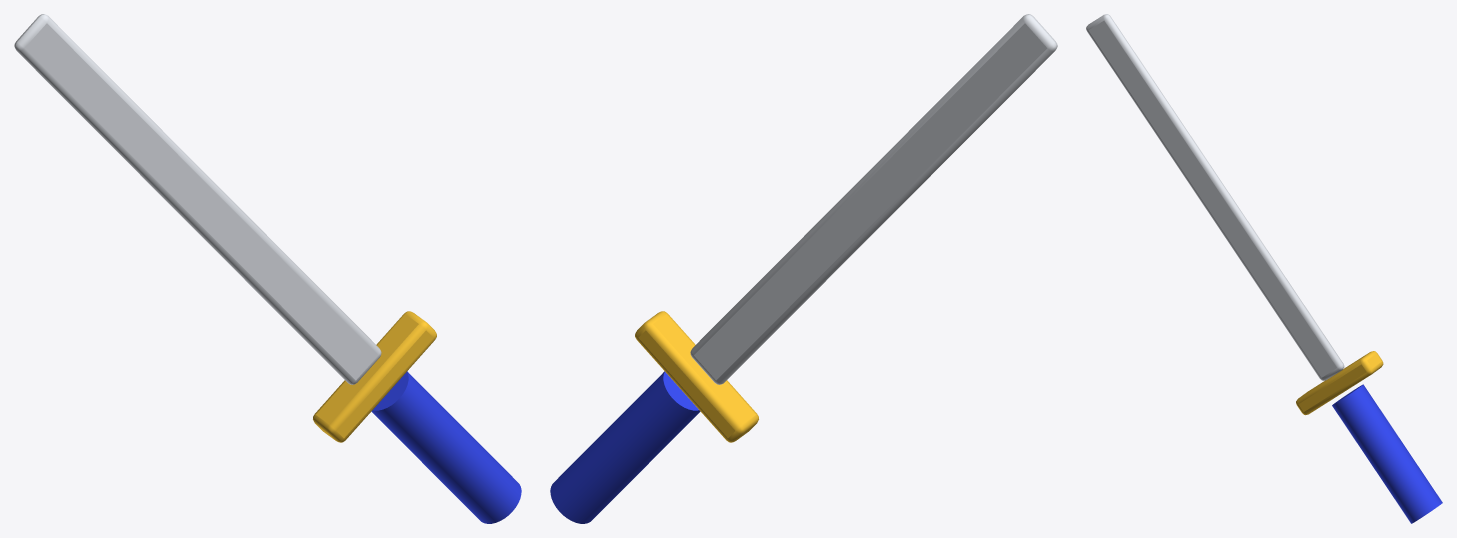
The model's file is cepel.glb.
The picture shows the model from 3 angles, left to right: view 1: azimuth 30°, elevation 25°; view 2: azimuth 150°, elevation 25°; view 3: azimuth 330°, elevation 25°; orthographic projection. The views are drawn at different scales.
Visible parts, largest first — view 1: cepel_ostri, cepel_rukojet, cepel_zastita; view 2: cepel_ostri, cepel_rukojet, cepel_zastita; view 3: cepel_ostri, cepel_rukojet, cepel_zastita.
Part boxes in pixels (x1,y1,x2,y2): cepel_ostri: (14, 14, 381, 384); cepel_rukojet: (371, 371, 521, 523); cepel_zastita: (313, 311, 436, 442); cepel_ostri: (690, 14, 1057, 384); cepel_rukojet: (550, 371, 700, 523); cepel_zastita: (635, 311, 758, 442); cepel_ostri: (1086, 14, 1344, 380); cepel_rukojet: (1332, 384, 1442, 523); cepel_zastita: (1296, 351, 1383, 415).
Bounding box in the file's own units: 0.8567 × 1 × 0.08.
